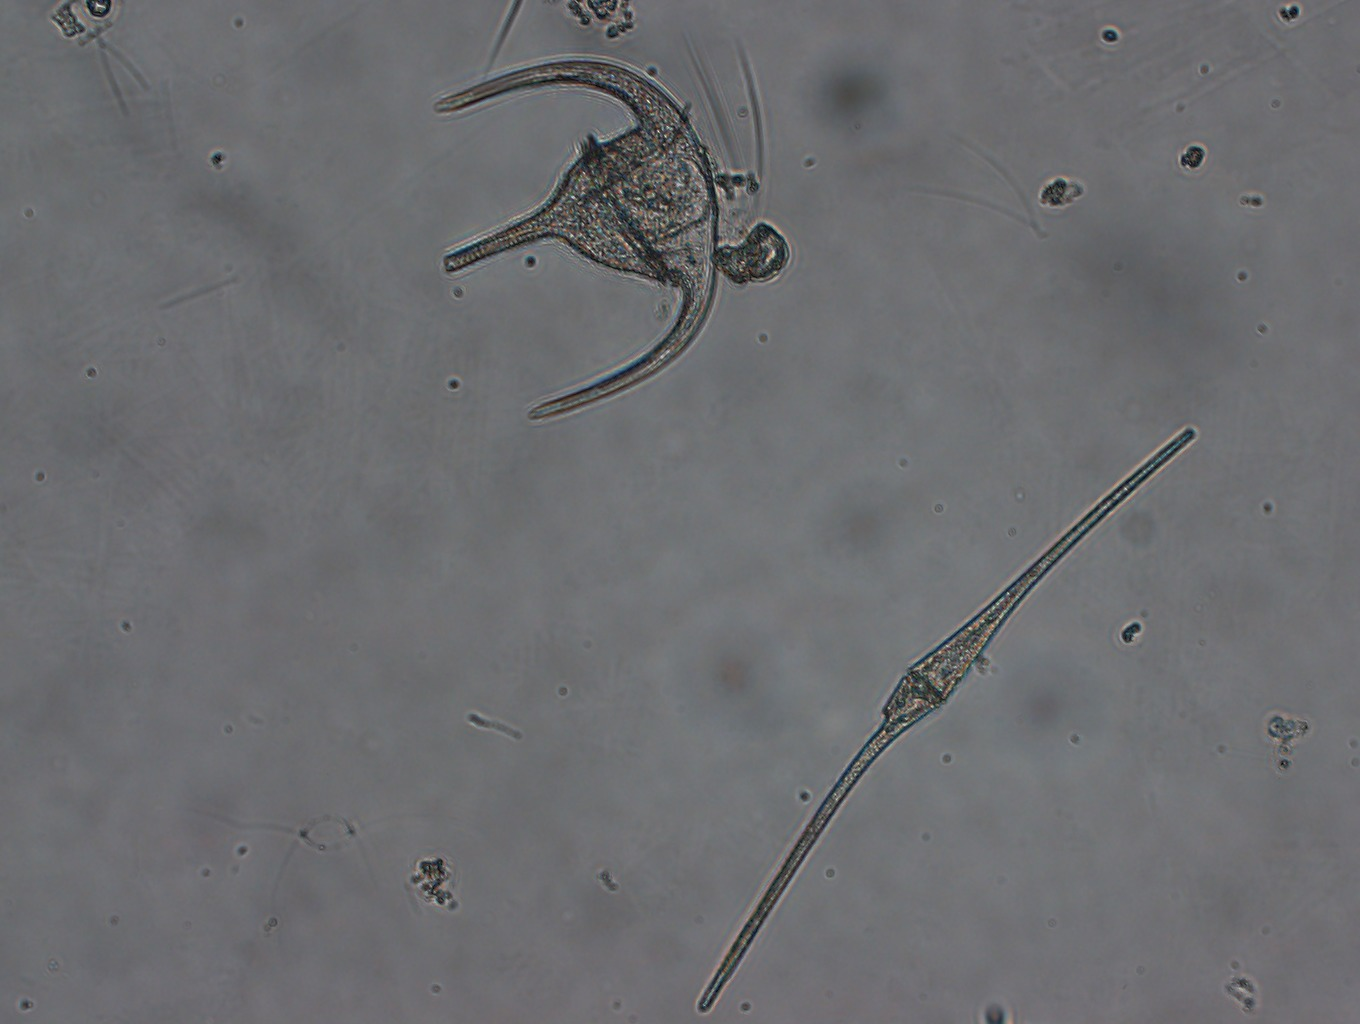ceratium fusus: (695, 424, 1199, 1014)
ceratium tripos: (434, 56, 721, 424)
chaetoceros: (44, 2, 152, 114)
